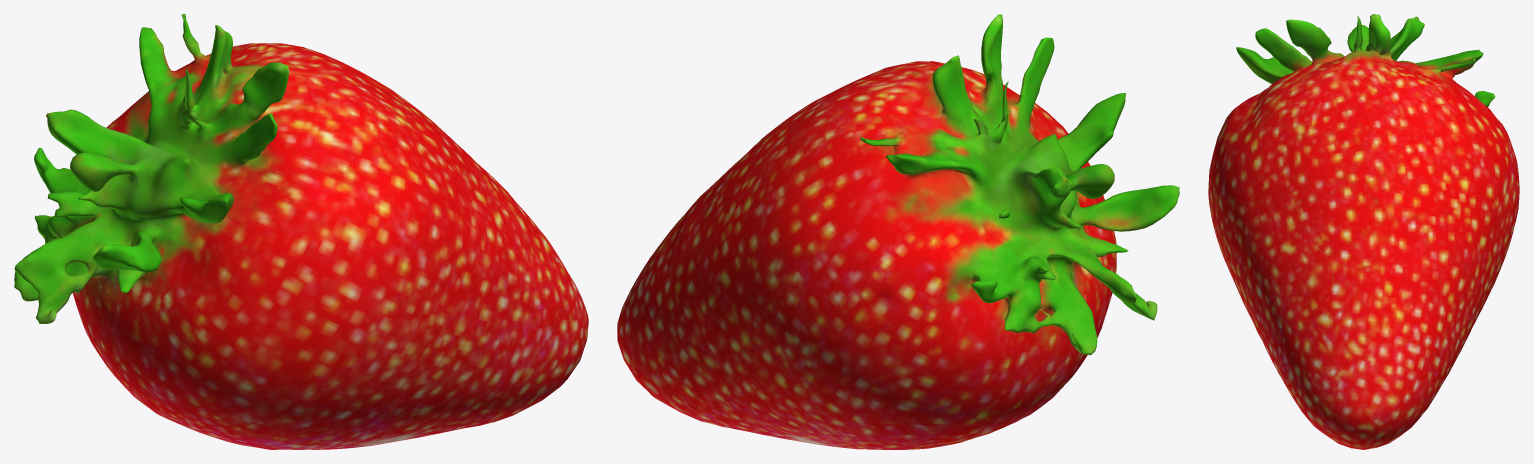
Rendered from suica-straberry.glb.
The picture shows the model from 3 angles, left to right: view 1: azimuth 30°, elevation 25°; view 2: azimuth 150°, elevation 25°; view 3: azimuth 270°, elevation 25°; orthographic projection. The views are drawn at different scales.
Visible parts, largest first — view 1: Mesh; view 2: Mesh; view 3: Mesh.
Part boxes in pixels (x1,y1,x2,y2): Mesh: (14, 14, 588, 449); Mesh: (617, 14, 1179, 449); Mesh: (1208, 14, 1519, 449).
Size of the model in its own units: 28.33 by 21.87 by 18.57.
1 material, 1 textured.
